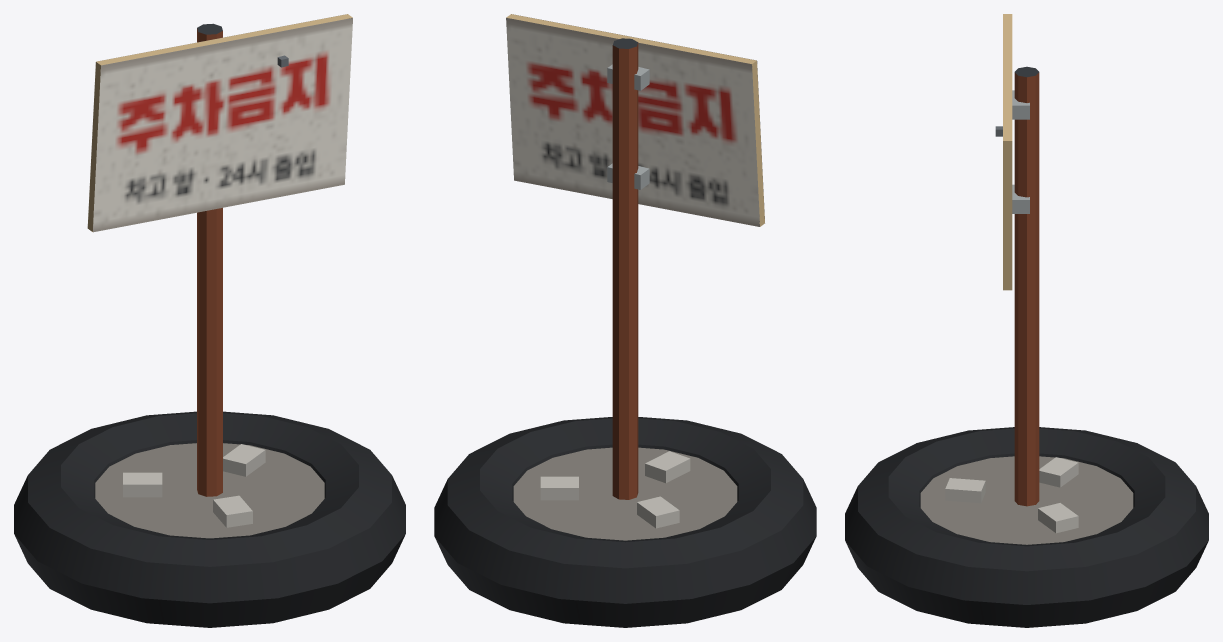
The model's file is SC_Util_NoParking_Tire.gltf.
3 views of the same model, side by side, from view 1: azimuth 30°, elevation 25°; view 2: azimuth 150°, elevation 25°; view 3: azimuth 270°, elevation 25° (orthographic). The views are drawn at different scales.
Parts seen in each view (by area): view 1: SC_Util_NoParking_Tire; view 2: SC_Util_NoParking_Tire; view 3: SC_Util_NoParking_Tire.
Boxes of the visible parts, <box> form: SC_Util_NoParking_Tire: <box>14,14,405,627</box>; SC_Util_NoParking_Tire: <box>434,14,816,627</box>; SC_Util_NoParking_Tire: <box>845,14,1208,627</box>.
Bounding box in the file's own units: 0.71 × 1.06 × 0.6992.
2 materials, 2 textured.
